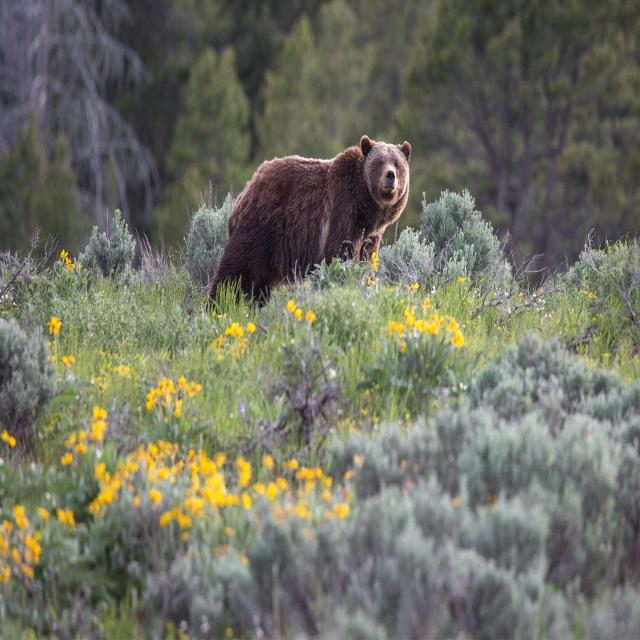Bear: (208, 137, 413, 309)
